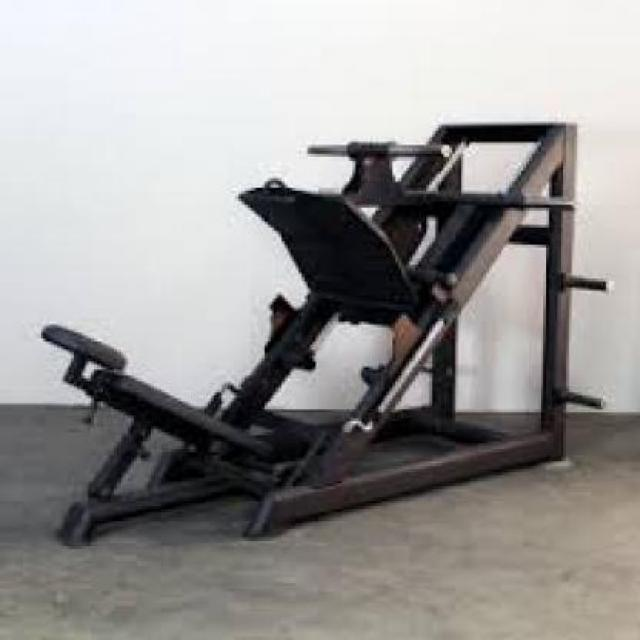leg press: (34, 91, 618, 554)
